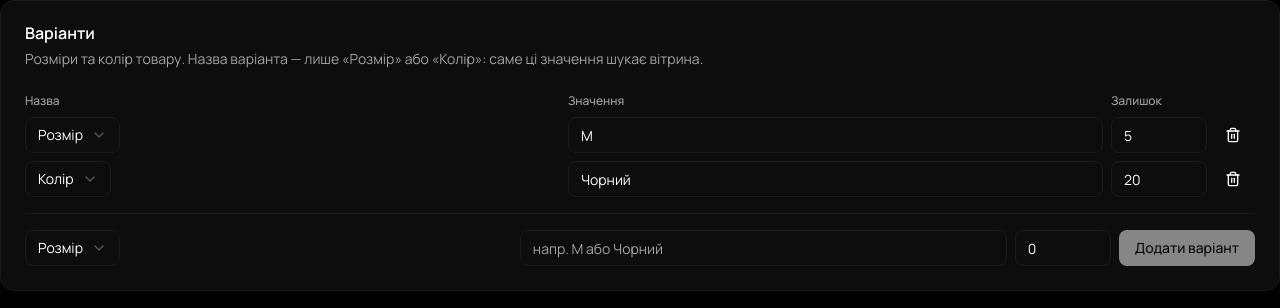
Test: ProductVariantsSection › disables Add when the stock field is cleared, even with a value present
Expected: the 2nd field showing "Чорний" is shown, [568,161,1103,197]
Type "L" into the field named "Значення". click: [763, 248]
box: [520,230,1007,266]
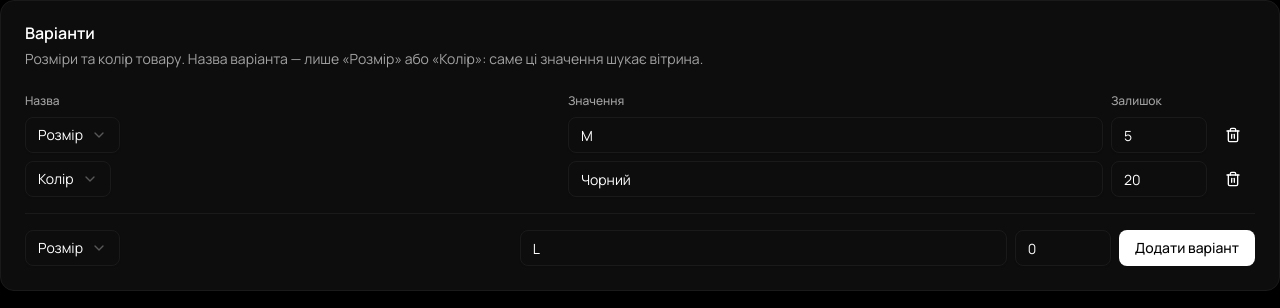
Clear the 3rd number field named "Залишок". click: [1063, 248]
box: [1015,230,1111,266]
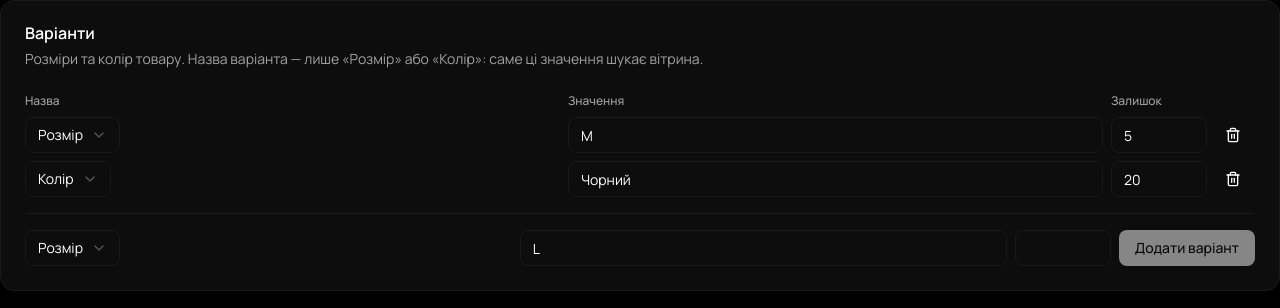
Expected: the button "Додати варіант" is disabled, [1119,230,1255,266]
